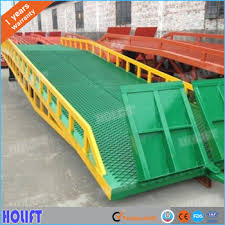Yard Ramp: (2, 37, 224, 201)
